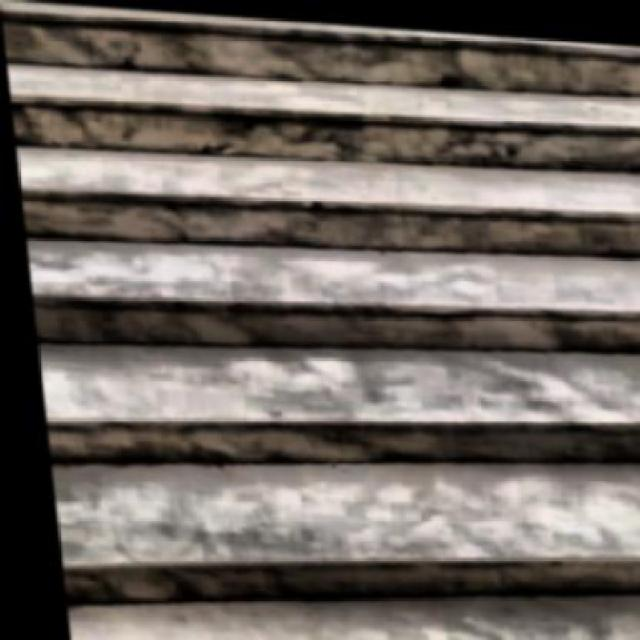stair: (9, 0, 638, 638)
